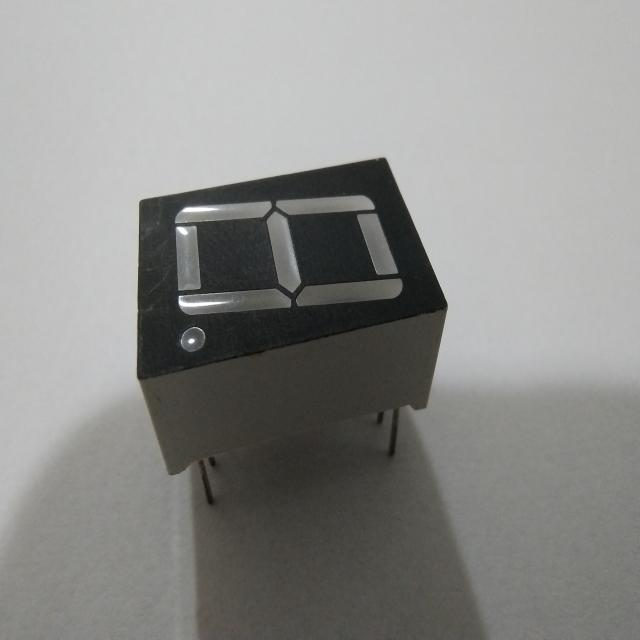7_segments: (126, 146, 458, 514)
